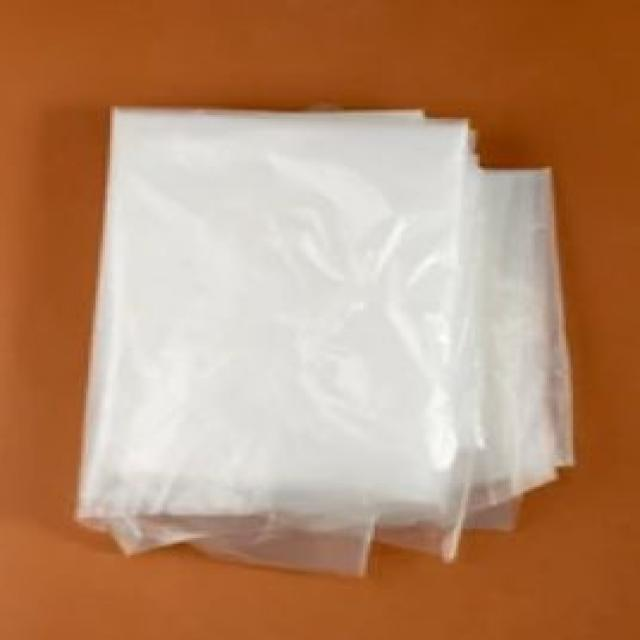general: (72, 102, 576, 578)
